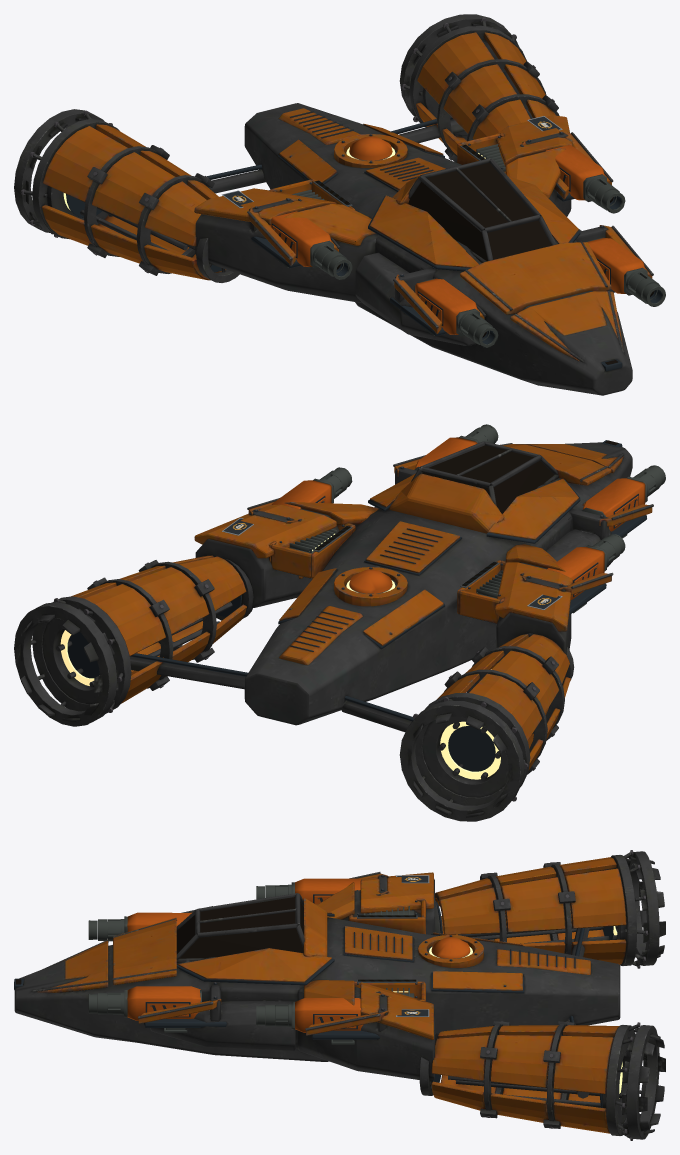
File: saturn-schiff2.glb
3 views of the same model, one above another, from view 1: azimuth 30°, elevation 25°; view 2: azimuth 150°, elevation 25°; view 3: azimuth 270°, elevation 25° (orthographic). The views are drawn at different scales.
Visible parts, largest first — view 1: Hull_saturn_Armor, Hull_saturn_BrushedAlloy, Hull_saturn_EdgeGuards, Generator_01_Geometry, Laser_01_Geometry, Generator_03_Geometry; view 2: Hull_saturn_Armor, Hull_saturn_BrushedAlloy, Hull_saturn_EdgeGuards, Generator_01_Geometry, Generator_03_Geometry, Laser_01_Geometry; view 3: Hull_saturn_Armor, Hull_saturn_BrushedAlloy, Hull_saturn_EdgeGuards, Generator_01_Geometry, Generator_03_Geometry, Laser_01_Geometry.
Boxes of the visible parts, x1,y1,x2,y2 form: Hull_saturn_Armor: (42,32,652,361); Hull_saturn_BrushedAlloy: (26,23,632,395); Hull_saturn_EdgeGuards: (14,14,653,363); Generator_01_Geometry: (20,17,665,371); Laser_01_Geometry: (337,163,654,364); Generator_03_Geometry: (269,136,644,334); Hull_saturn_Armor: (71,444,652,770); Hull_saturn_BrushedAlloy: (16,441,632,817); Hull_saturn_EdgeGuards: (14,443,653,821); Generator_01_Geometry: (31,424,665,801); Generator_03_Geometry: (271,437,645,599); Laser_01_Geometry: (422,440,618,513); Hull_saturn_Armor: (37,857,626,1133); Hull_saturn_BrushedAlloy: (14,856,665,1137); Hull_saturn_EdgeGuards: (31,851,659,1139); Generator_01_Geometry: (14,850,648,1140); Generator_03_Geometry: (127,878,470,1032); Laser_01_Geometry: (16,897,303,984).
Size of the model in its own units: 13.19 by 3.85 by 16.36.
Materials: 11 (9 with a texture image).
